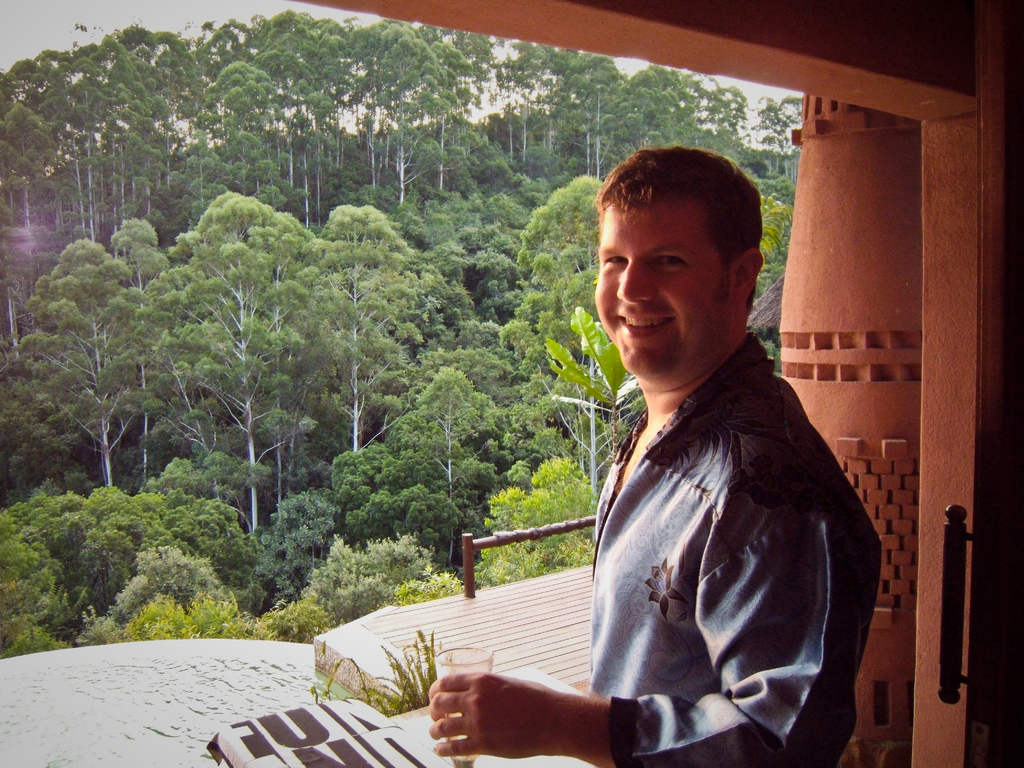Tree: (0, 7, 804, 646)
